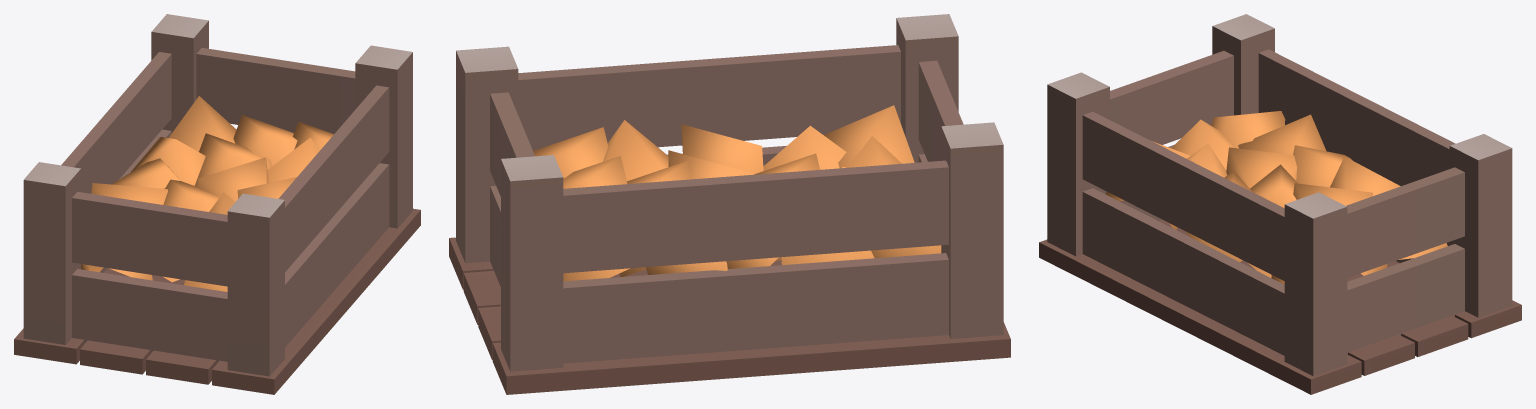
File: n4_box_003_lev4.glb
The picture shows the model from 3 angles, left to right: view 1: azimuth 30°, elevation 25°; view 2: azimuth 150°, elevation 25°; view 3: azimuth 270°, elevation 25°; orthographic projection. The views are drawn at different scales.
Visible parts, largest first — view 1: n4_box_003_lev4; view 2: n4_box_003_lev4; view 3: n4_box_003_lev4.
Boxes of the visible parts, bbox=[...] form: n4_box_003_lev4: bbox=[14, 14, 420, 394]; n4_box_003_lev4: bbox=[449, 14, 1010, 394]; n4_box_003_lev4: bbox=[1039, 14, 1521, 394].
Size of the model in its own units: 1.57 by 0.5963 by 1.51.
Materials: 1 (1 with a texture image).
